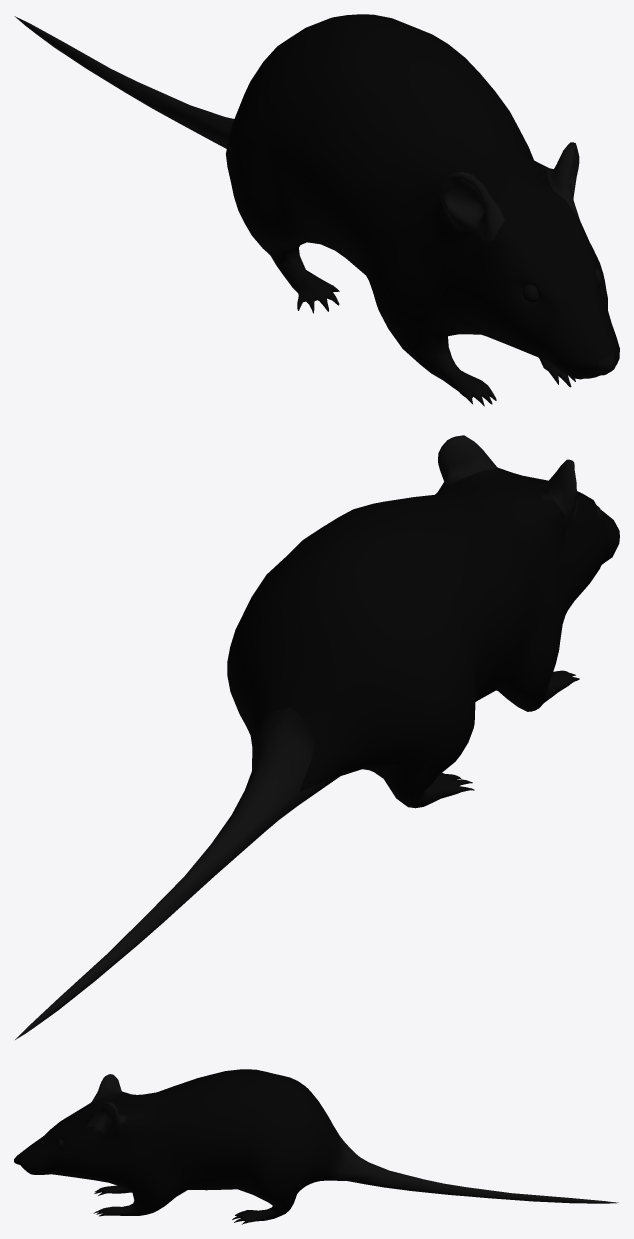
File: street_rat.glb
3 views of the same model, one above another, from view 1: azimuth 30°, elevation 25°; view 2: azimuth 150°, elevation 25°; view 3: azimuth 270°, elevation 25° (orthographic). The views are drawn at different scales.
Visible parts, largest first — view 1: street_rat; view 2: street_rat; view 3: street_rat.
Boxes of the visible parts, <box> form: street_rat: <box>14,14,619,406</box>; street_rat: <box>15,435,619,1039</box>; street_rat: <box>14,1069,618,1224</box>.
Bounding box in the file's own units: 0.0315 × 0.0333 × 0.1414.
Materials: 1 (1 with a texture image).
